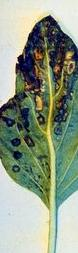Tomato leaf bacterial spot: (0, 8, 78, 215)
